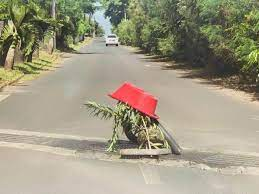car: (104, 33, 121, 46)
obstacle: (79, 81, 189, 166)
